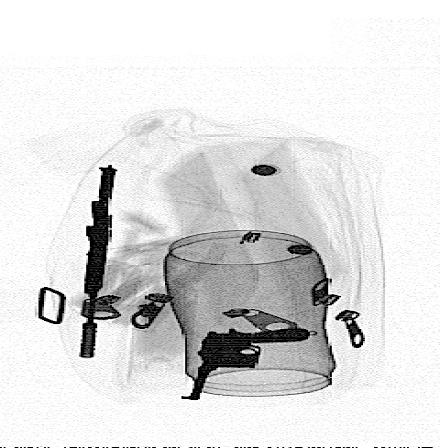Gun: (180, 328, 312, 400), (79, 164, 117, 358)
